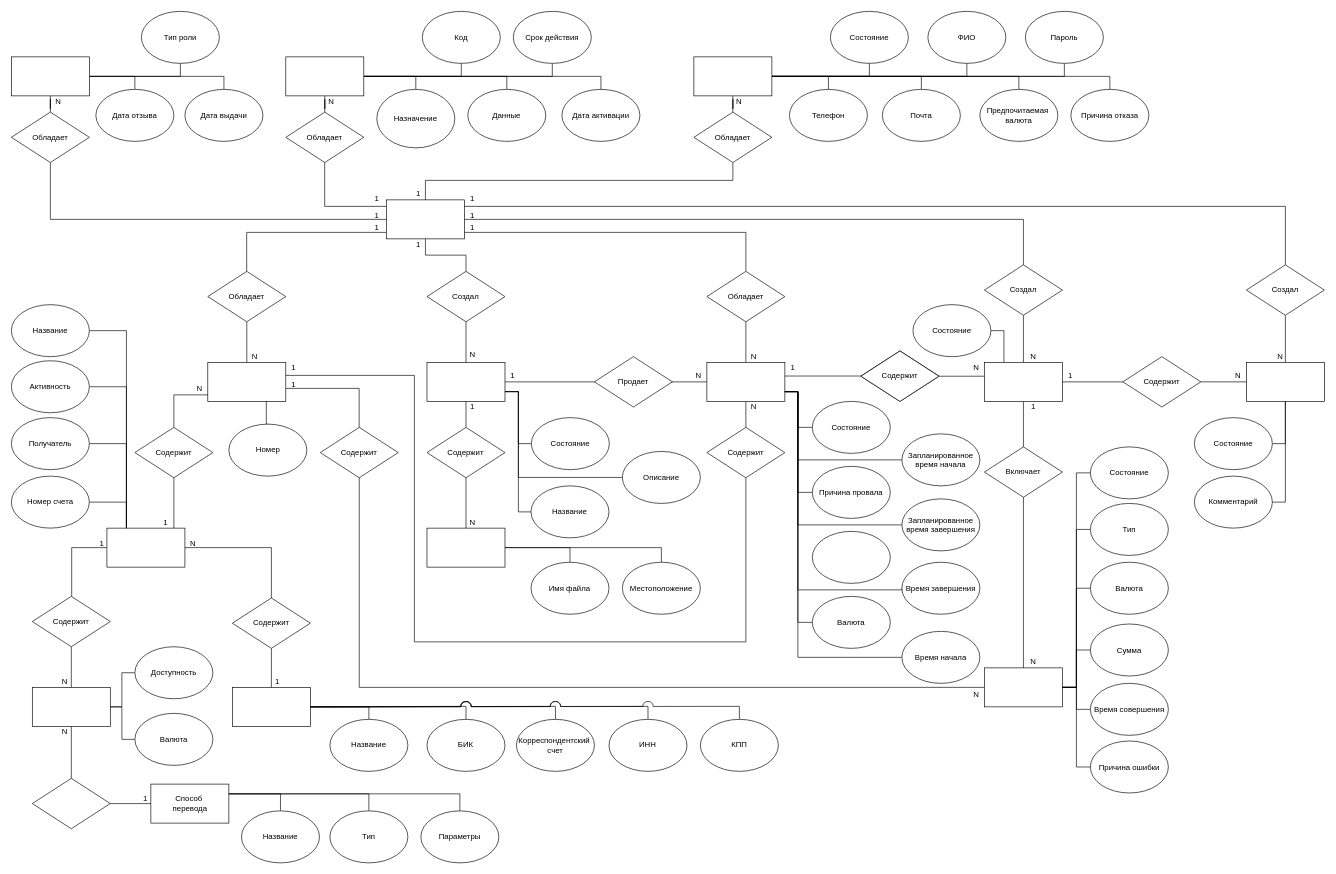
Some shapes in this 1336 by 874 pixel diagram are drawn without their labels. Here are the shapes that lost their labels. From the top down, the box of each, then its label:
(11, 56, 89, 96): Роль
(285, 56, 364, 96): Токен
(693, 56, 772, 96): Анкета
(386, 199, 464, 239): Пользователь
(207, 362, 286, 401): Аккаунт
(426, 362, 505, 401): Продукт
(706, 362, 785, 401): Аукцион
(984, 362, 1062, 401): Предложение
(1246, 362, 1324, 401): Запись истории сделки
(106, 527, 185, 567): Номинальный аккаунт
(426, 527, 505, 567): Изображение продукта
(812, 531, 890, 583): Минимальная ставка
(32, 687, 110, 726): Перевод
(232, 687, 310, 726): Банк
(984, 667, 1062, 707): Транзакция
(32, 778, 110, 829): Использует
